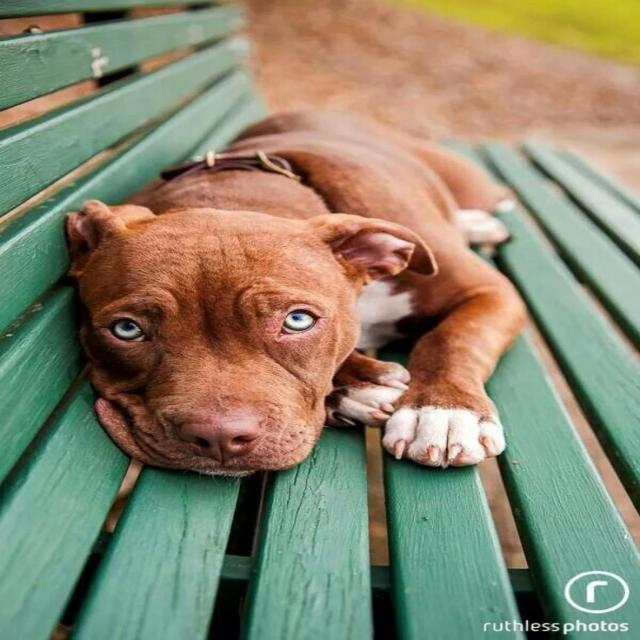dog: (41, 143, 442, 541)
